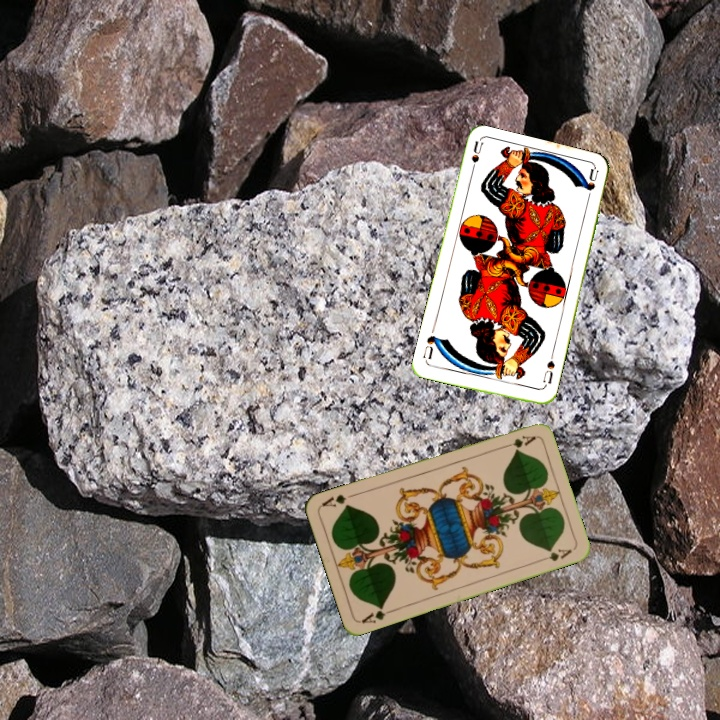GA: (357, 602, 397, 626), (498, 431, 538, 451)
SU: (466, 138, 485, 179), (539, 351, 558, 386)
